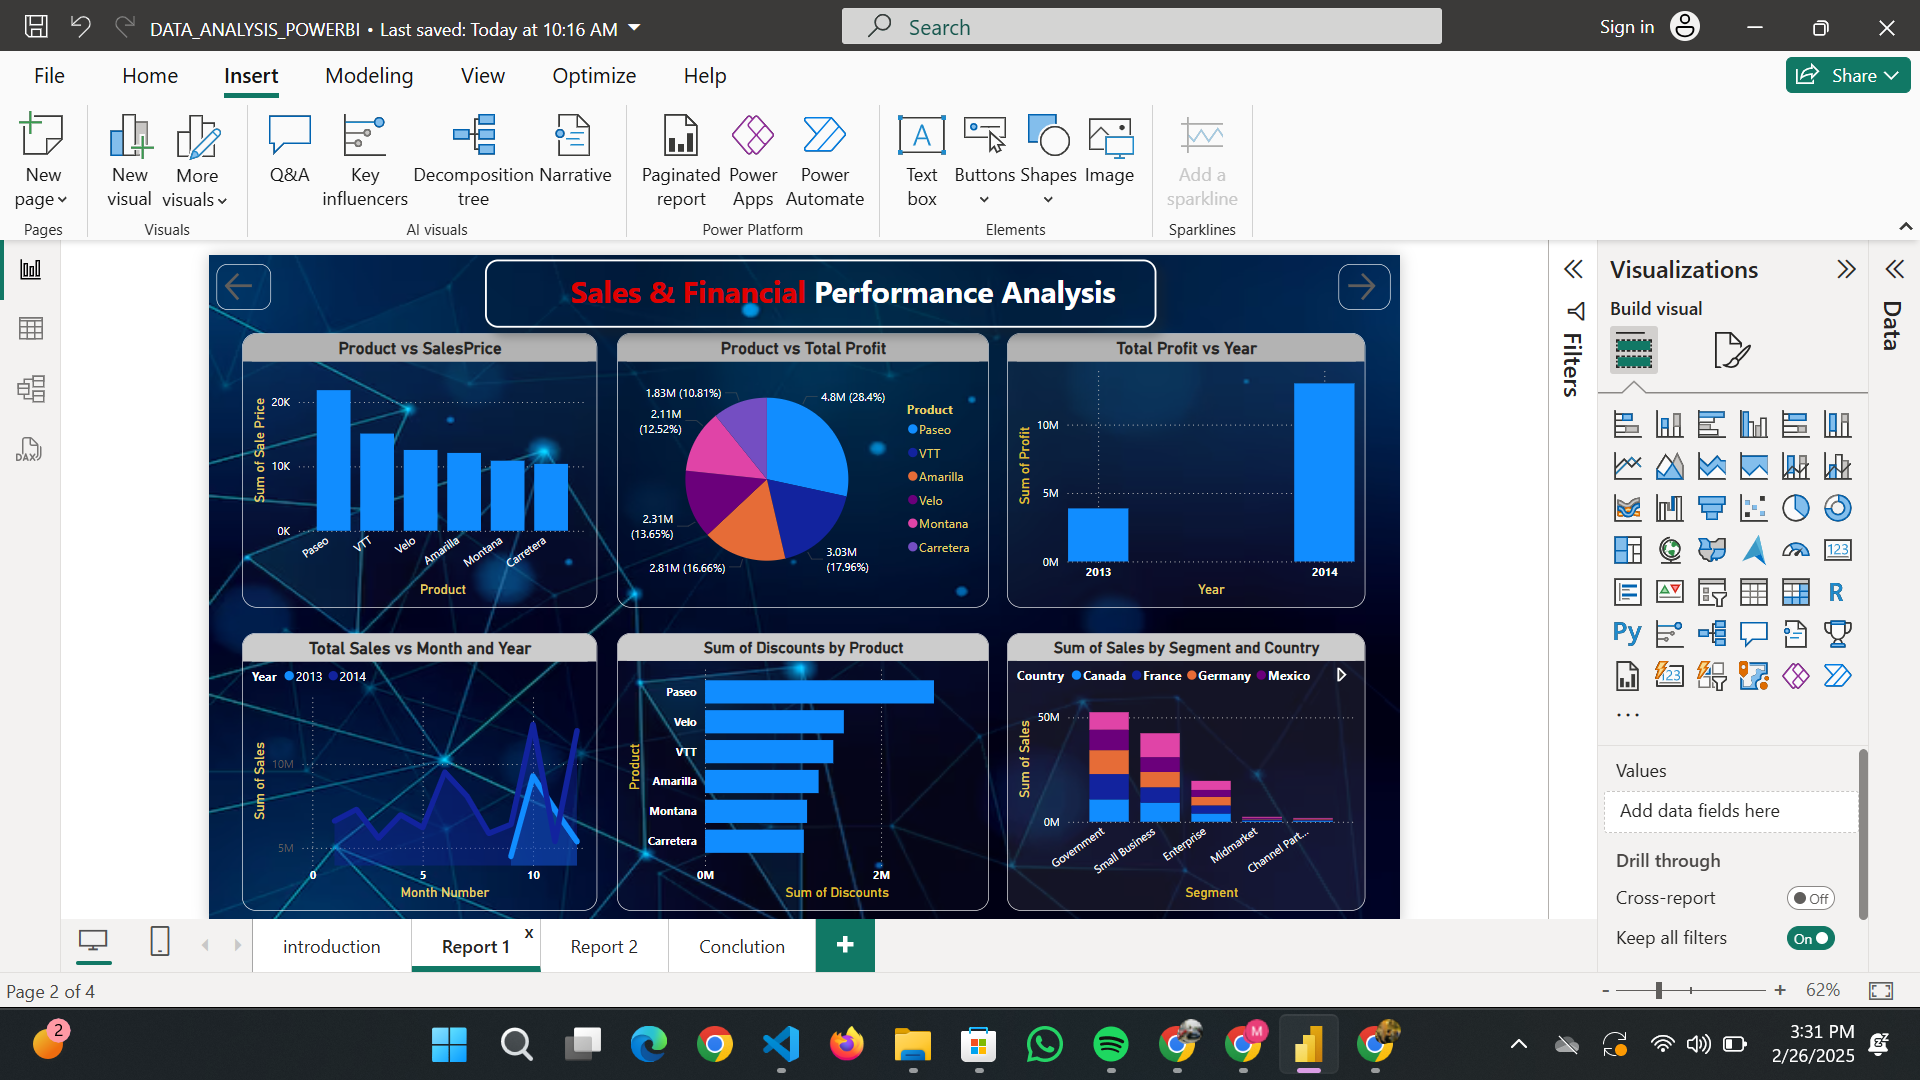

The dashboard page shown, as its layout file describes it:
{"tool":"powerbi","page":{"name":"Report 1","canvas":[1280,720],"ordinal":1},"visuals":[{"type":"columnChart","title":"Product vs SalesPrice","fields":{"Category":["financials.Product"],"Y":["Sum(financials.Sale Price)"]},"box":[35,83.3,381.7,295],"z":0},{"type":"pieChart","title":"Product vs Total Profit","fields":{"Category":["financials.Product"],"Y":["Sum(financials.Profit)"]},"box":[438.3,83.3,400,295],"z":1000},{"type":"columnChart","title":"Total Profit vs Year","fields":{"Y":["Sum(financials.Profit)"],"Category":["financials.Year"]},"box":[858.3,83.3,385,295],"z":2000},{"type":"areaChart","title":"Total Sales vs Month and Year","fields":{"Series":["financials.Year"],"Y":["Sum(financials. Sales)"],"Category":["financials.Month Number"]},"box":[35,406.7,381.7,298.3],"z":3000},{"type":"clusteredBarChart","fields":{"Y":["Sum(financials.Discounts)"],"Category":["financials.Product"]},"box":[438.3,406.7,400,298.3],"z":4000},{"type":"columnChart","fields":{"Category":["financials.Segment"],"Y":["Sum(financials. Sales)"],"Series":["financials.Country"]},"box":[858.3,406.7,385,298.3],"z":5000},{"type":"actionButton","box":[1215.2,9.5,55.7,49.3],"z":6000},{"type":"textbox","box":[296.7,5,721.7,73.3],"z":7000},{"type":"actionButton","box":[8,9.5,58.9,49.3],"z":7001}]}

Visuals, with their boxes on the page's 1280x720 design canvas (x1, y1, x2, y2). These are canvas units, not pixel positions in the 1920x1080 screenshot, which may show the page scaled, cropped or inside an application window:
"Product vs SalesPrice" columnChart: (35,83,417,378)
"Product vs Total Profit" pieChart: (438,83,838,378)
"Total Profit vs Year" columnChart: (858,83,1243,378)
"Total Sales vs Month and Year" areaChart: (35,407,417,705)
clusteredBarChart - Sum(financials.Discounts) x financials.Product: (438,407,838,705)
columnChart - financials.Segment x Sum(financials. Sales): (858,407,1243,705)
actionButton: (1215,10,1271,59)
textbox: (297,5,1018,78)
actionButton: (8,10,67,59)
